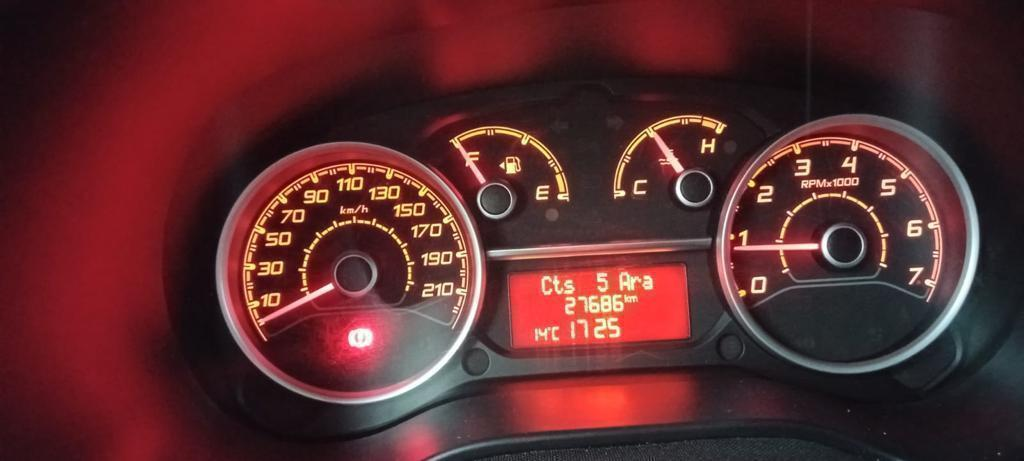1: (566, 318, 576, 339), (532, 327, 538, 341)
2: (592, 317, 606, 339), (563, 296, 576, 315)
4: (538, 327, 547, 340)
5: (594, 271, 609, 293), (607, 316, 620, 338)
6: (587, 294, 600, 313), (612, 293, 624, 312)
7: (576, 317, 589, 340), (577, 294, 588, 313)
8: (599, 294, 611, 313)
X: (616, 270, 630, 291), (539, 274, 552, 296), (552, 274, 563, 295), (563, 278, 575, 295), (630, 274, 641, 290), (642, 275, 653, 290), (550, 324, 559, 341), (629, 296, 638, 303), (624, 294, 630, 304)
odometer: (501, 259, 694, 354)
